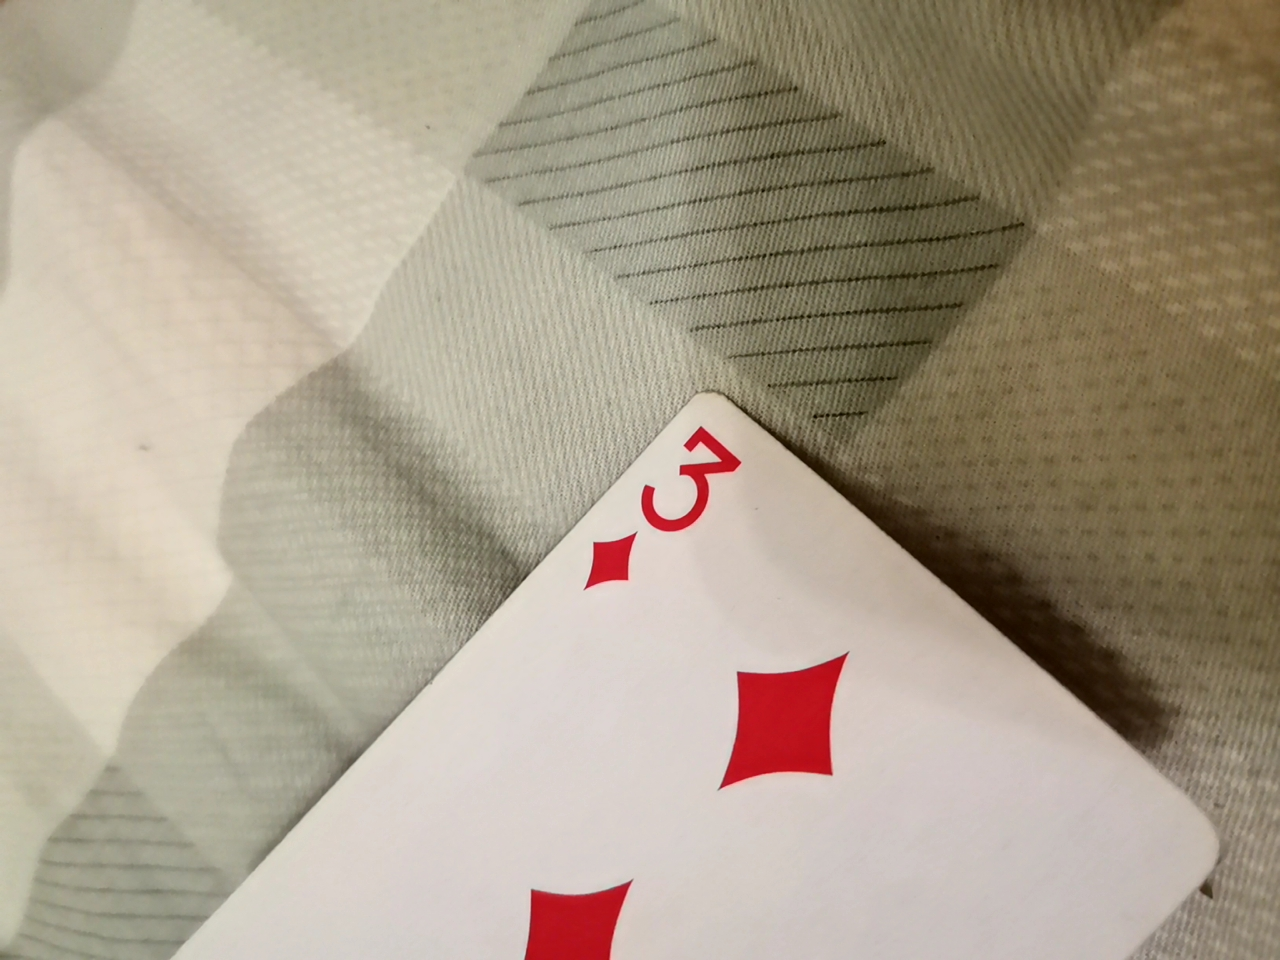fk 3: (28, 370, 1256, 952)
